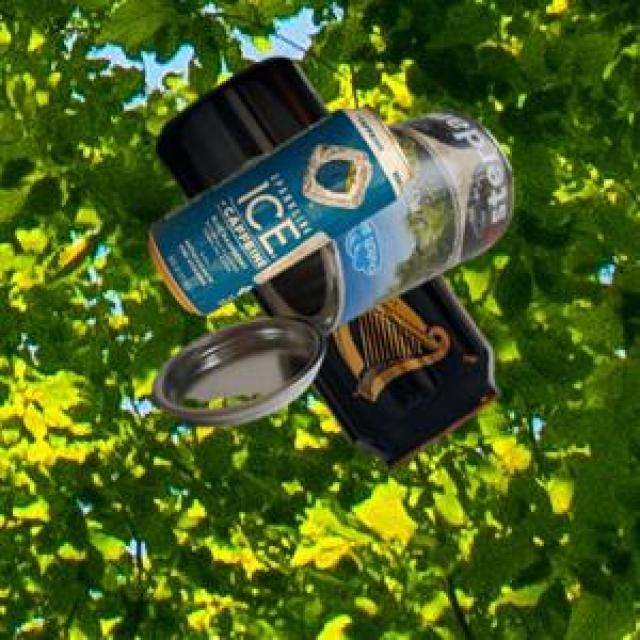logam: (153, 54, 496, 466), (150, 108, 509, 423), (146, 101, 411, 313)
